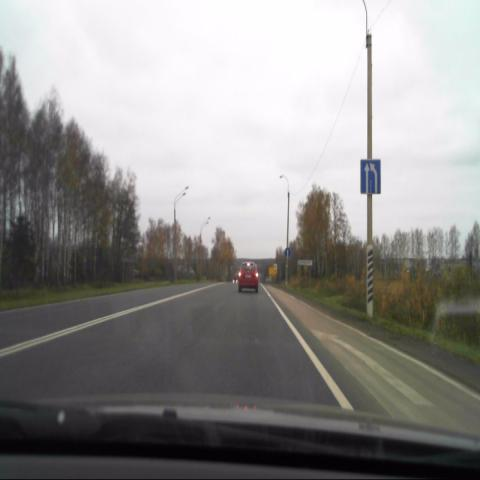4_1_1: (284, 246, 290, 257)
5_15_5: (360, 160, 380, 195)
